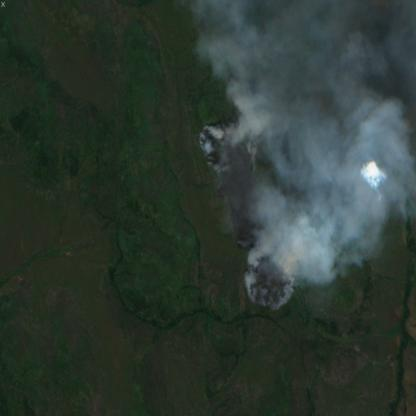fire: (195, 113, 303, 315)
